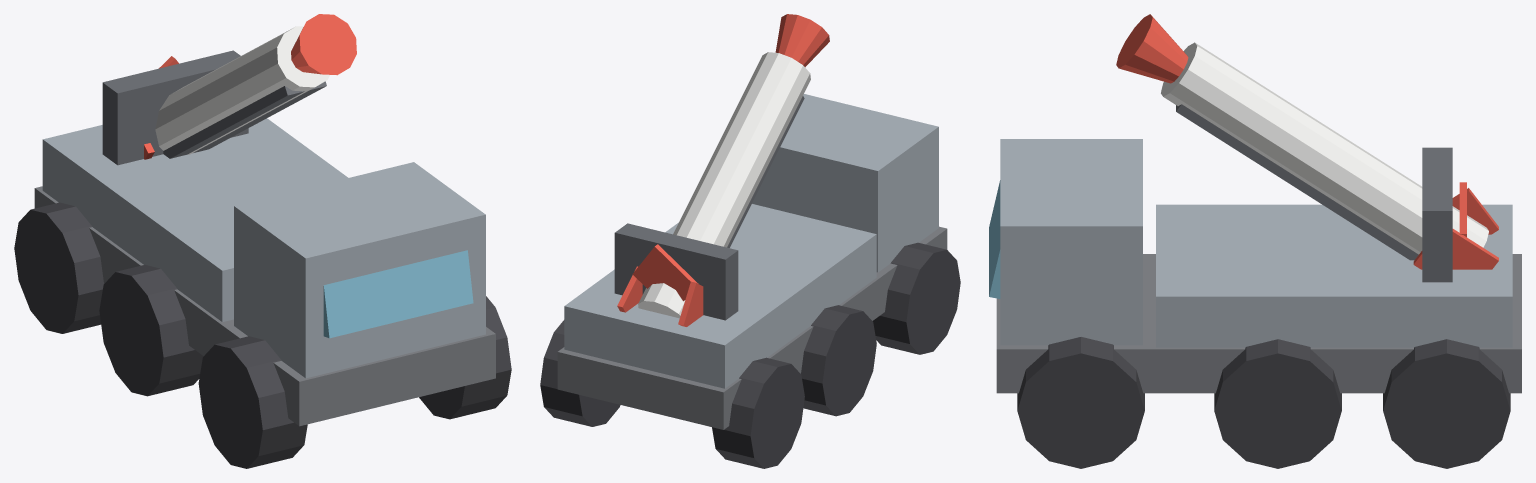
Rendered from Unit_V2Launcher.fbx.
The picture shows the model from 3 angles, left to right: view 1: azimuth 30°, elevation 25°; view 2: azimuth 150°, elevation 25°; view 3: azimuth 270°, elevation 25°; orthographic projection. The views are drawn at different scales.
Visible parts, largest first — view 1: Body.004; view 2: Body.004; view 3: Body.004.
Part boxes in pixels (bbox=[...]): Body.004: bbox=[14, 14, 511, 468]; Body.004: bbox=[540, 14, 960, 468]; Body.004: bbox=[989, 14, 1521, 468].
Size of the model in its own units: 1.52 by 2.3 by 2.84.
